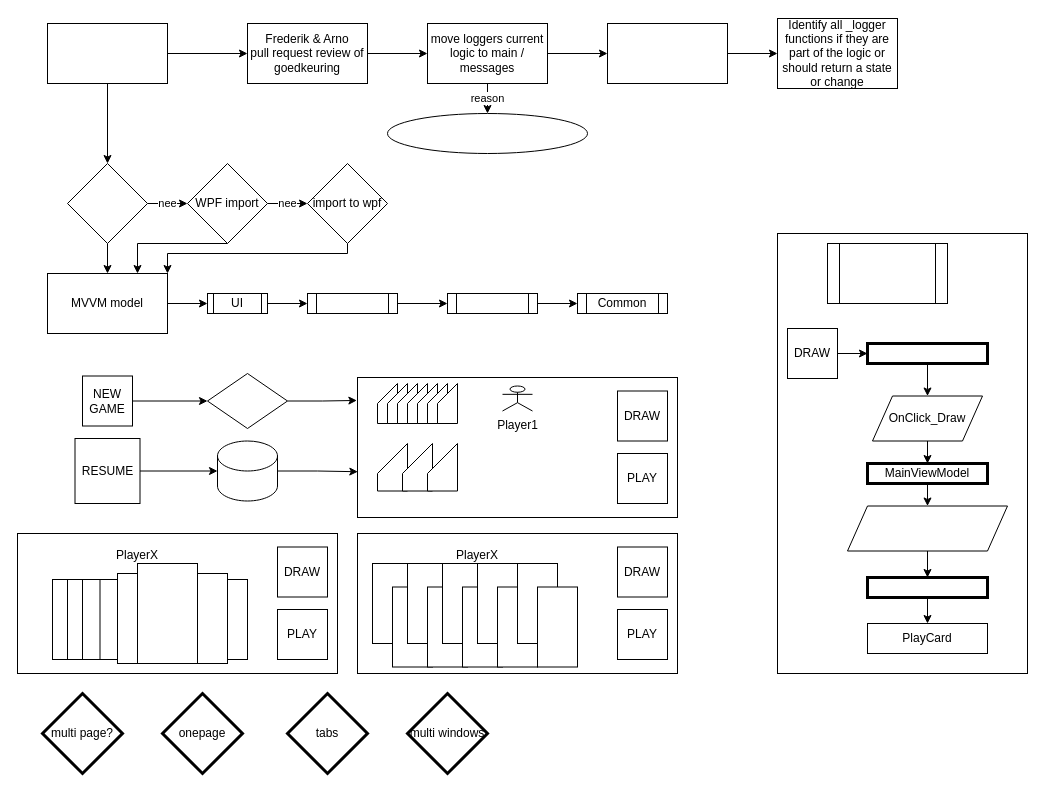
The diagram is 1045 pixels wide and 792 high, and some of its shapes have lost their labels. Here are the shapes that lost their labels. From the top down, the centre of each, then its label:
At point 107,53: "Seperation of concern afwerken".
At point 667,53: "Remove business - > playable card list generic type class".
At point 487,133: "Other method in WPF for coloring".
At point 107,203: "Nuget package?".
At point 887,273: "MVVM EXAMPLE".
At point 352,303: "ViewModel".
At point 492,303: "Business".
At point 927,353: "CodeBehind".
At point 247,400: "playeramount".
At point 247,470: "saved game".
At point 927,528: "UpdateCurrentCard".
At point 927,587: "BusinessLogic".
